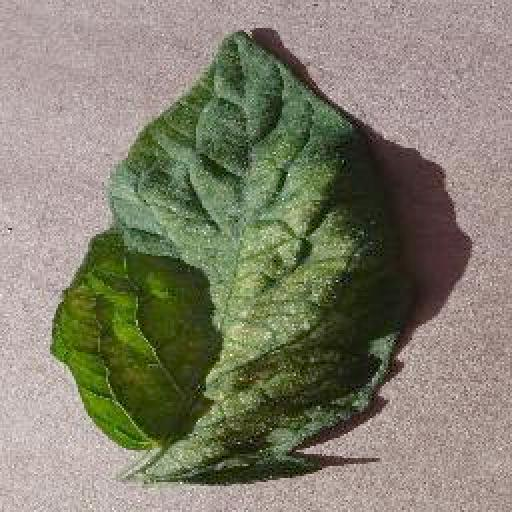disease_tomato: (45, 30, 415, 488)
